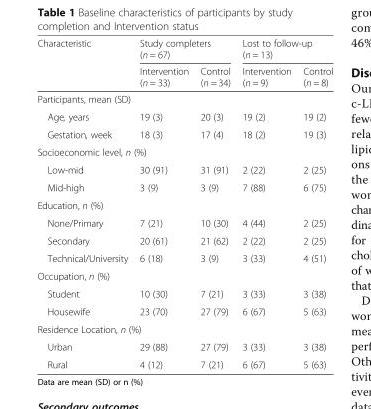table: (36, 37, 332, 369)
table column: (36, 37, 133, 369), (235, 37, 296, 369), (133, 37, 193, 369), (193, 37, 235, 369), (296, 37, 332, 369)
table column header: (36, 37, 332, 90)
table projected row header: (36, 142, 332, 160), (36, 266, 332, 284), (36, 319, 332, 337), (36, 90, 332, 107), (36, 196, 332, 213)
table row: (36, 62, 332, 90), (36, 37, 332, 62), (36, 107, 332, 125), (36, 142, 332, 160), (36, 160, 332, 178), (36, 178, 332, 196), (36, 213, 332, 231), (36, 231, 332, 249), (36, 266, 332, 284), (36, 284, 332, 302), (36, 319, 332, 337), (36, 337, 332, 355), (36, 90, 332, 107), (36, 125, 332, 142), (36, 196, 332, 213), (36, 249, 332, 266), (36, 302, 332, 319), (36, 355, 332, 369)
table spanning cell: (36, 37, 133, 90), (133, 37, 235, 62), (235, 37, 332, 62)
